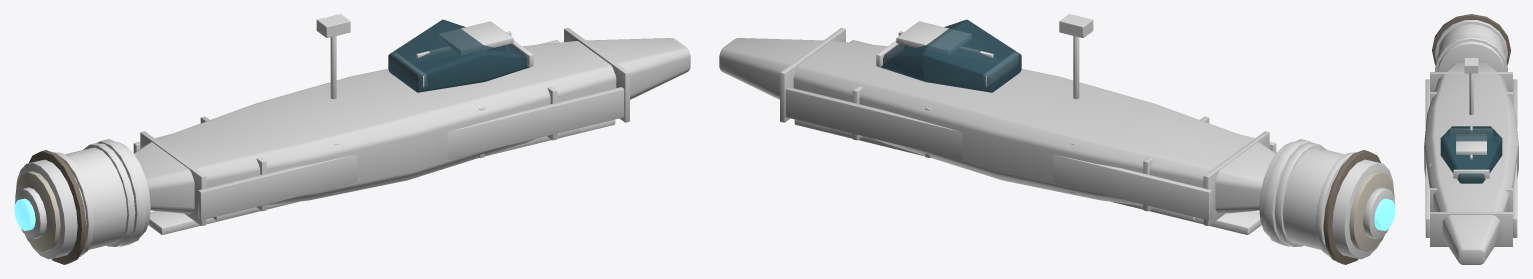
Rendered from survey_pin_production_v1_lod2.glb.
3 views of the same model, side by side, from view 1: azimuth 30°, elevation 25°; view 2: azimuth 150°, elevation 25°; view 3: azimuth 270°, elevation 25° (orthographic). The views are drawn at different scales.
Parts seen in each view (by area): view 1: LOD2_Hull, LOD2_Mechanical, LOD2_Armor, LOD2_Canopy, LOD2_Ceramic, LOD2_Radiator, LOD2_Thruster; view 2: LOD2_Hull, LOD2_Mechanical, LOD2_Armor, LOD2_Canopy, LOD2_Ceramic, LOD2_Radiator, LOD2_Thruster; view 3: LOD2_Hull, LOD2_Armor, LOD2_Canopy, LOD2_Mechanical, LOD2_Radiator.
Part boxes in pixels (x1=…): LOD2_Hull: x1=133, y1=28, x2=690, y2=225; LOD2_Mechanical: x1=14, y1=36, x2=615, y2=259; LOD2_Armor: x1=53, y1=14, x2=533, y2=256; LOD2_Canopy: x1=388, y1=19, x2=531, y2=92; LOD2_Ceramic: x1=15, y1=171, x2=60, y2=252; LOD2_Radiator: x1=29, y1=150, x2=86, y2=264; LOD2_Thruster: x1=14, y1=198, x2=35, y2=230; LOD2_Hull: x1=719, y1=28, x2=1276, y2=225; LOD2_Mechanical: x1=794, y1=36, x2=1395, y2=259; LOD2_Armor: x1=876, y1=14, x2=1356, y2=256; LOD2_Canopy: x1=878, y1=19, x2=1021, y2=92; LOD2_Ceramic: x1=1349, y1=171, x2=1394, y2=252; LOD2_Radiator: x1=1323, y1=150, x2=1380, y2=264; LOD2_Thruster: x1=1374, y1=198, x2=1395, y2=230; LOD2_Hull: x1=1424, y1=63, x2=1518, y2=264; LOD2_Armor: x1=1435, y1=20, x2=1507, y2=178; LOD2_Canopy: x1=1440, y1=126, x2=1502, y2=183; LOD2_Mechanical: x1=1438, y1=24, x2=1504, y2=114; LOD2_Radiator: x1=1432, y1=14, x2=1510, y2=65.
Size of what is drawn, in the model's own units: 11.98 by 2.99 by 2.2.
